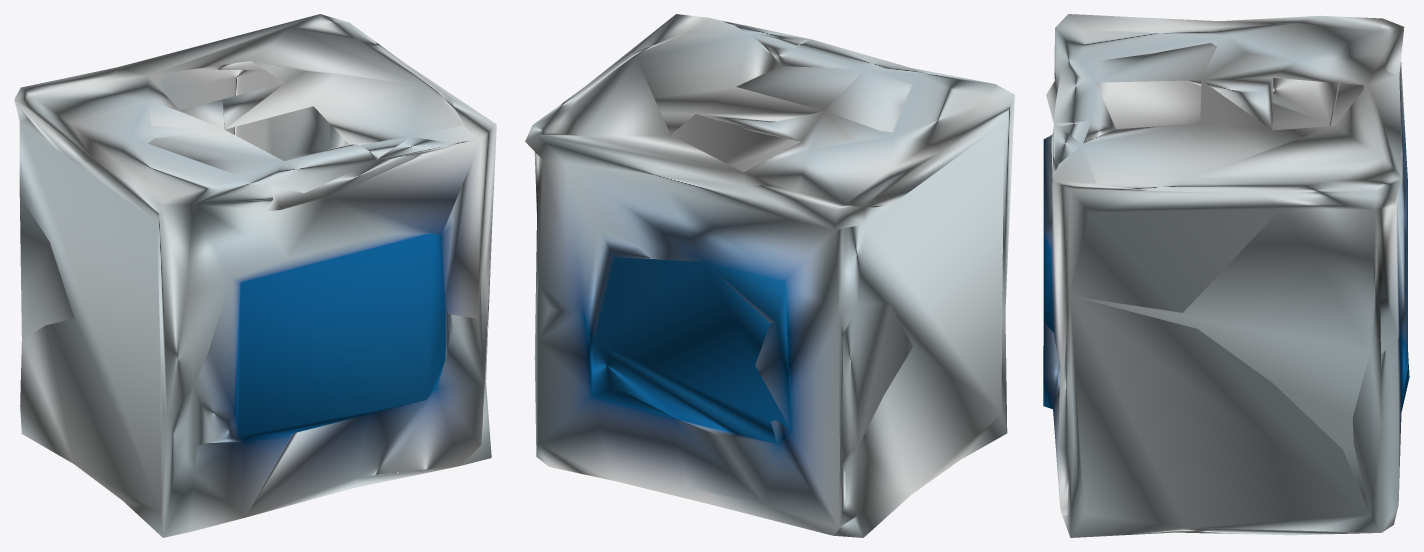
Rendered from gen3d-ballot-box-lod1.glb.
The picture shows the model from 3 angles, left to right: view 1: azimuth 30°, elevation 25°; view 2: azimuth 150°, elevation 25°; view 3: azimuth 270°, elevation 25°; orthographic projection. The views are drawn at different scales.
Visible parts, largest first — view 1: part_0; view 2: part_0; view 3: part_0.
Boxes of the visible parts, x1,y1,x2,y2 form: part_0: [14, 14, 496, 537]; part_0: [525, 14, 1014, 537]; part_0: [1043, 14, 1409, 537].
Size of the model in its own units: 1.04 by 0.9944 by 0.9258.
